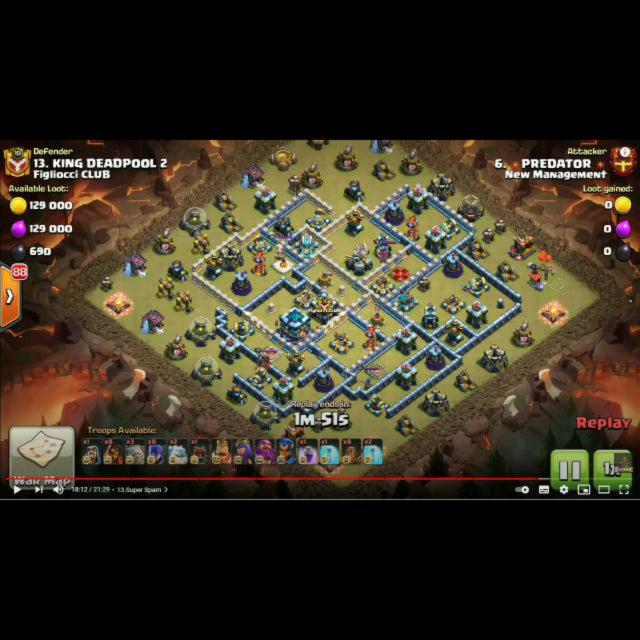AD: (344, 206, 365, 236), (444, 317, 465, 347), (285, 348, 305, 378), (203, 252, 223, 281)
AirSweeper: (369, 305, 388, 330), (315, 270, 333, 291)
BombTower: (422, 301, 439, 330), (374, 231, 390, 257)
Canon: (246, 366, 273, 391), (305, 206, 331, 230), (435, 216, 461, 240), (364, 393, 390, 417), (229, 318, 256, 341), (246, 234, 272, 257), (464, 275, 490, 298)
ClanCastle: (310, 290, 339, 324)
Eagle: (345, 240, 373, 276)
Inferno: (403, 214, 421, 241), (362, 325, 379, 352), (250, 249, 266, 275)
KingPad: (261, 343, 284, 361)
Mortar: (343, 178, 366, 203), (167, 258, 190, 282), (273, 215, 296, 238), (226, 383, 249, 405)
QueenPad: (388, 264, 414, 282)
RcPad: (367, 362, 387, 378)
Scattershot: (389, 289, 419, 315), (294, 233, 319, 257)
TH13: (279, 303, 312, 344)
WardenPad: (271, 255, 295, 273)
WizzTower: (231, 268, 252, 296), (314, 365, 335, 393), (443, 252, 464, 279), (384, 198, 404, 225), (425, 344, 445, 371)
Xbow: (370, 272, 396, 296), (440, 290, 466, 314), (328, 330, 354, 354), (294, 288, 319, 310)
